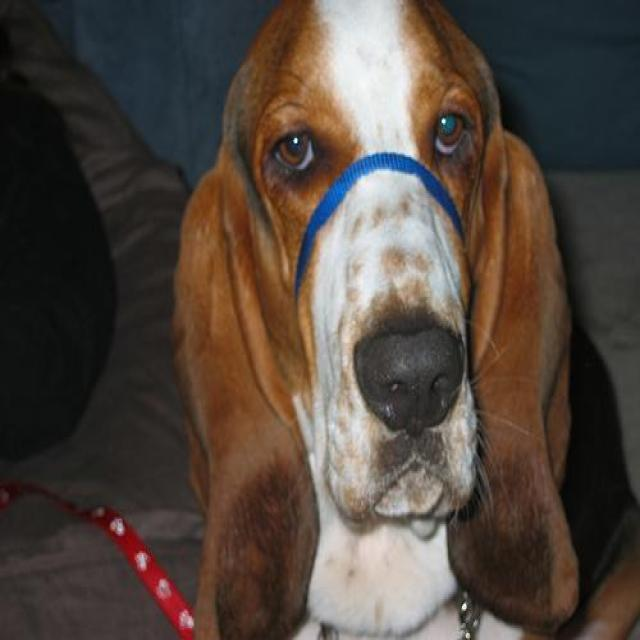basset: (169, 1, 637, 636)
